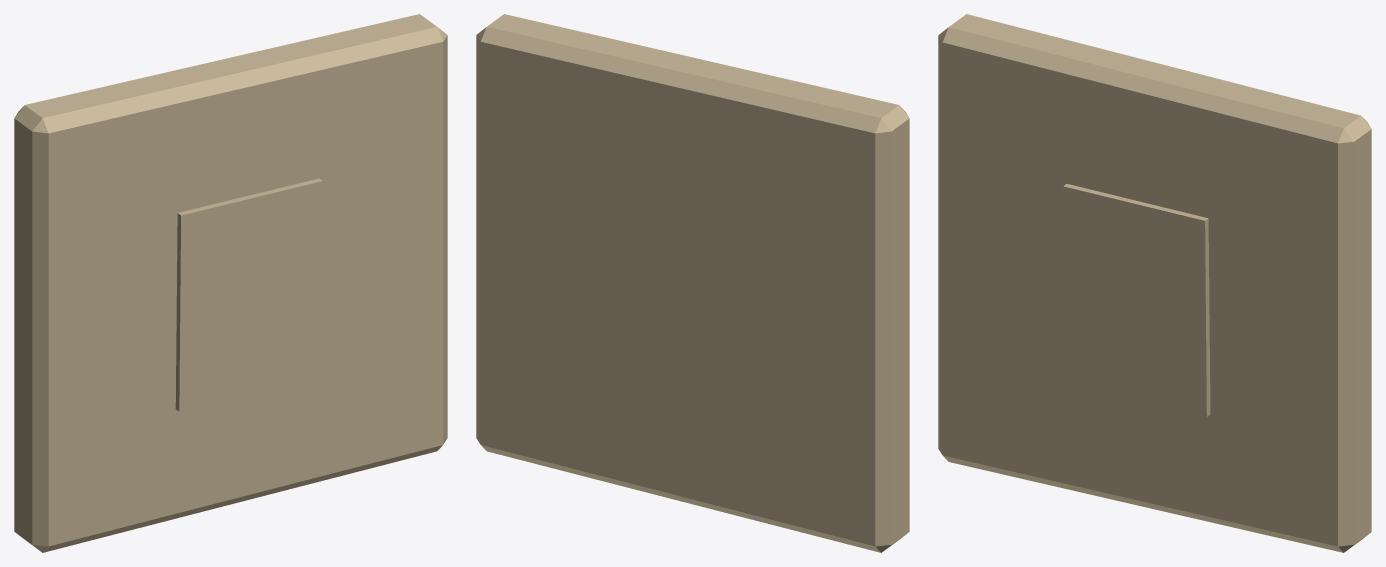
File: small_sign.glb
3 renders of one model, left to right at view 1: azimuth 30°, elevation 25°; view 2: azimuth 150°, elevation 25°; view 3: azimuth 330°, elevation 25°, orthographic.
Visible parts, largest first — view 1: WB002V2_BlankOrangePlaque.004; view 2: WB002V2_BlankOrangePlaque.004; view 3: WB002V2_BlankOrangePlaque.004.
Part boxes in pixels (x1,y1,x2,y2): WB002V2_BlankOrangePlaque.004: [14, 14, 447, 552]; WB002V2_BlankOrangePlaque.004: [476, 14, 909, 552]; WB002V2_BlankOrangePlaque.004: [938, 14, 1371, 552].
Bounding box in the file's own units: 0.8 × 0.7995 × 0.12.
